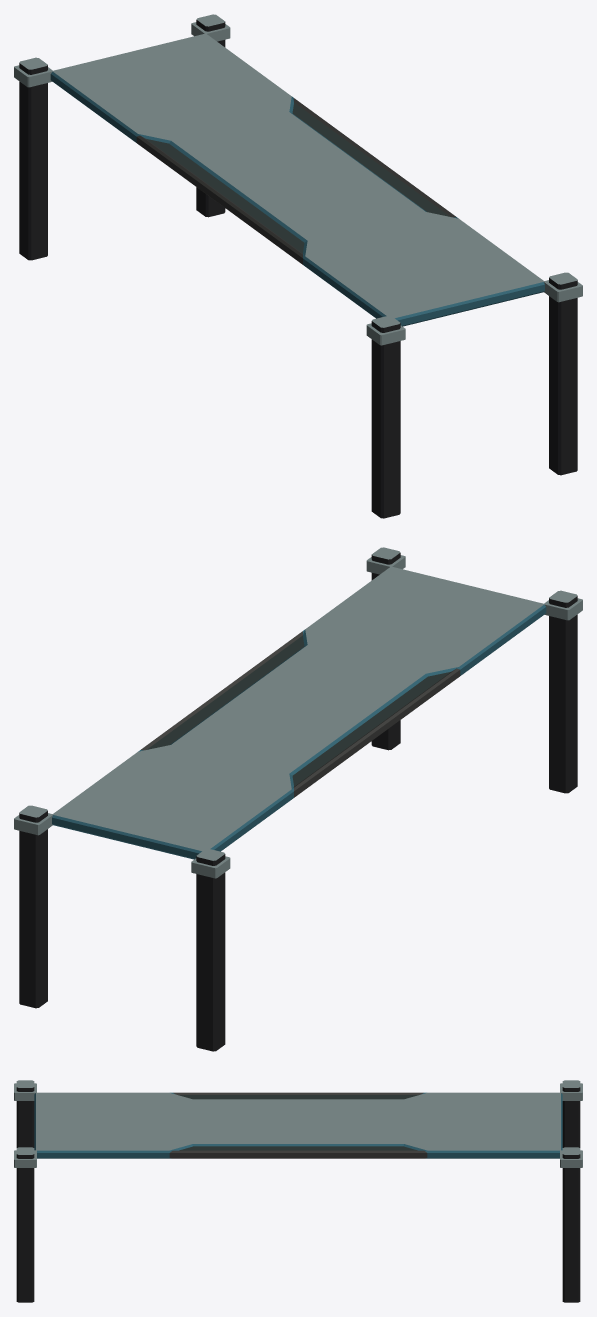
File: shelf.glb
3 renders of one model, top to bottom at view 1: azimuth 30°, elevation 25°; view 2: azimuth 150°, elevation 25°; view 3: azimuth 270°, elevation 25°, orthographic. The views are drawn at different scales.
Visible parts, largest first — view 1: Cube; view 2: Cube; view 3: Cube.
Boxes of the visible parts, x1,y1,x2,y2 form: Cube: (14, 14, 582, 518); Cube: (14, 547, 582, 1051); Cube: (14, 1080, 582, 1302).
Size of the model in its own units: 0.515 by 0.4625 by 1.62.
Materials: 1 (1 with a texture image).
